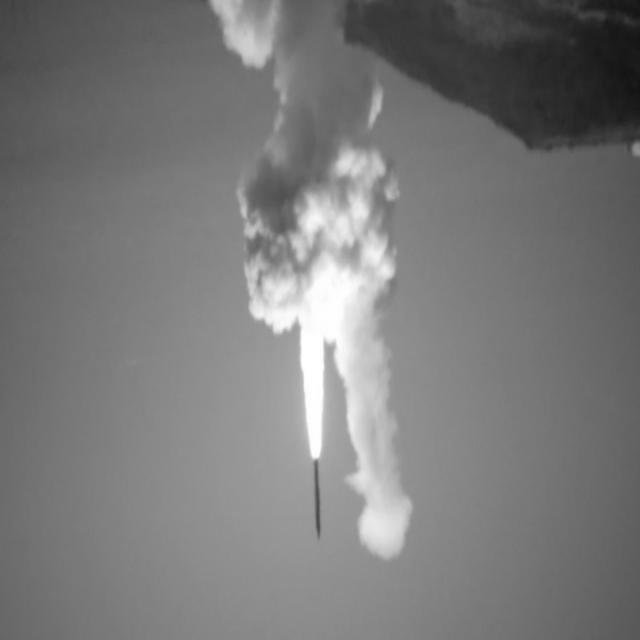missile: (310, 450, 323, 544)
